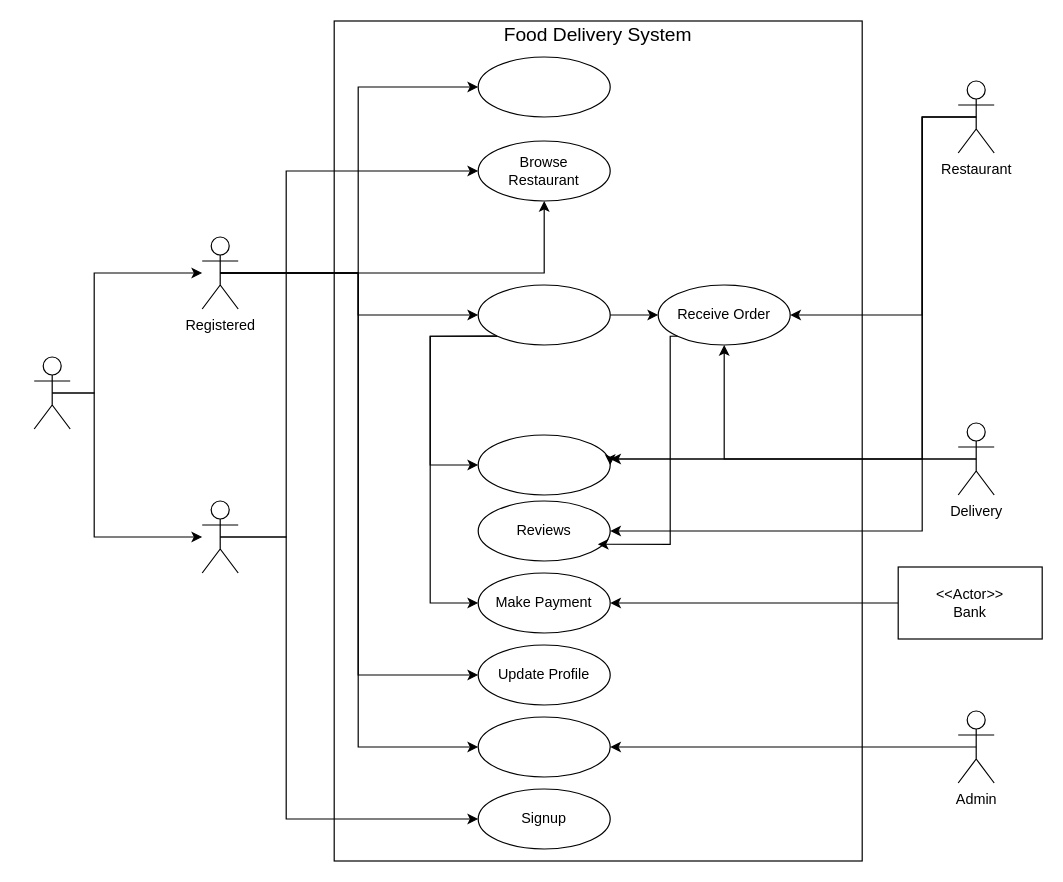
This 1063x882 diagram has some shape labels left out. The box of each missing label's shape, as (x1, y1, x2, y2) in pixels:
Customer: (33, 356, 70, 429)
Customer Support: (477, 716, 610, 777)
Login: (477, 56, 610, 117)
New: (201, 500, 238, 573)
Place Order: (477, 284, 610, 345)
Track Order Status: (477, 434, 610, 495)
